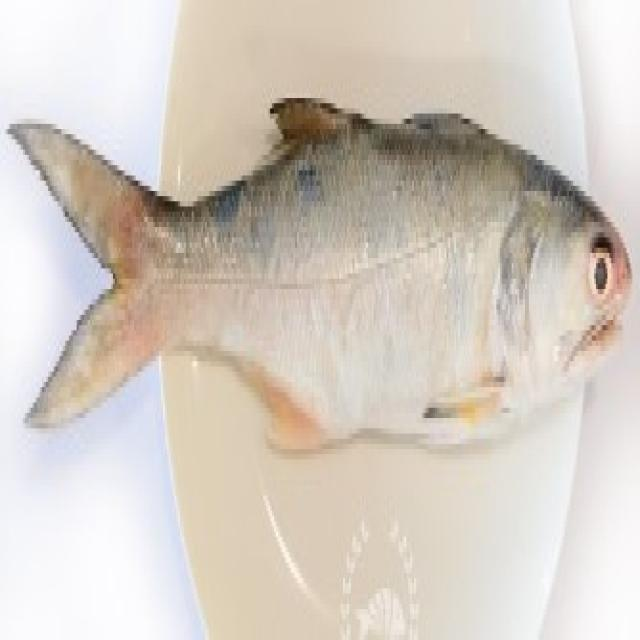Fourfinger-Threadfin: (11, 84, 640, 536)
